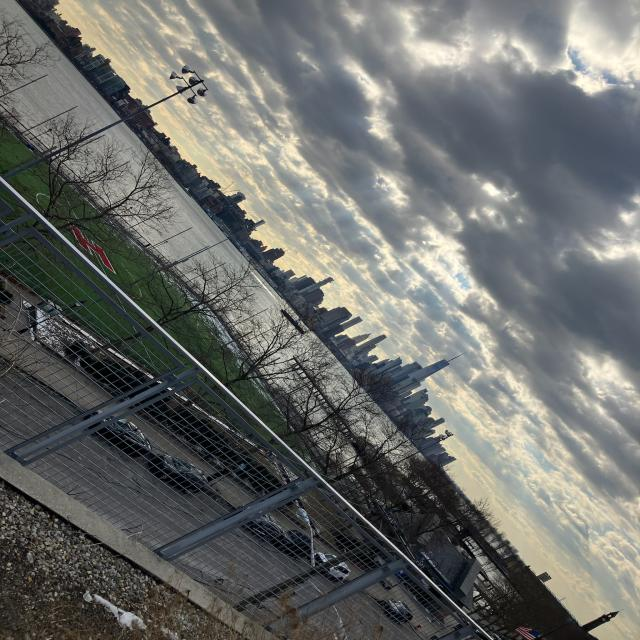WTC: (412, 349, 469, 382)
